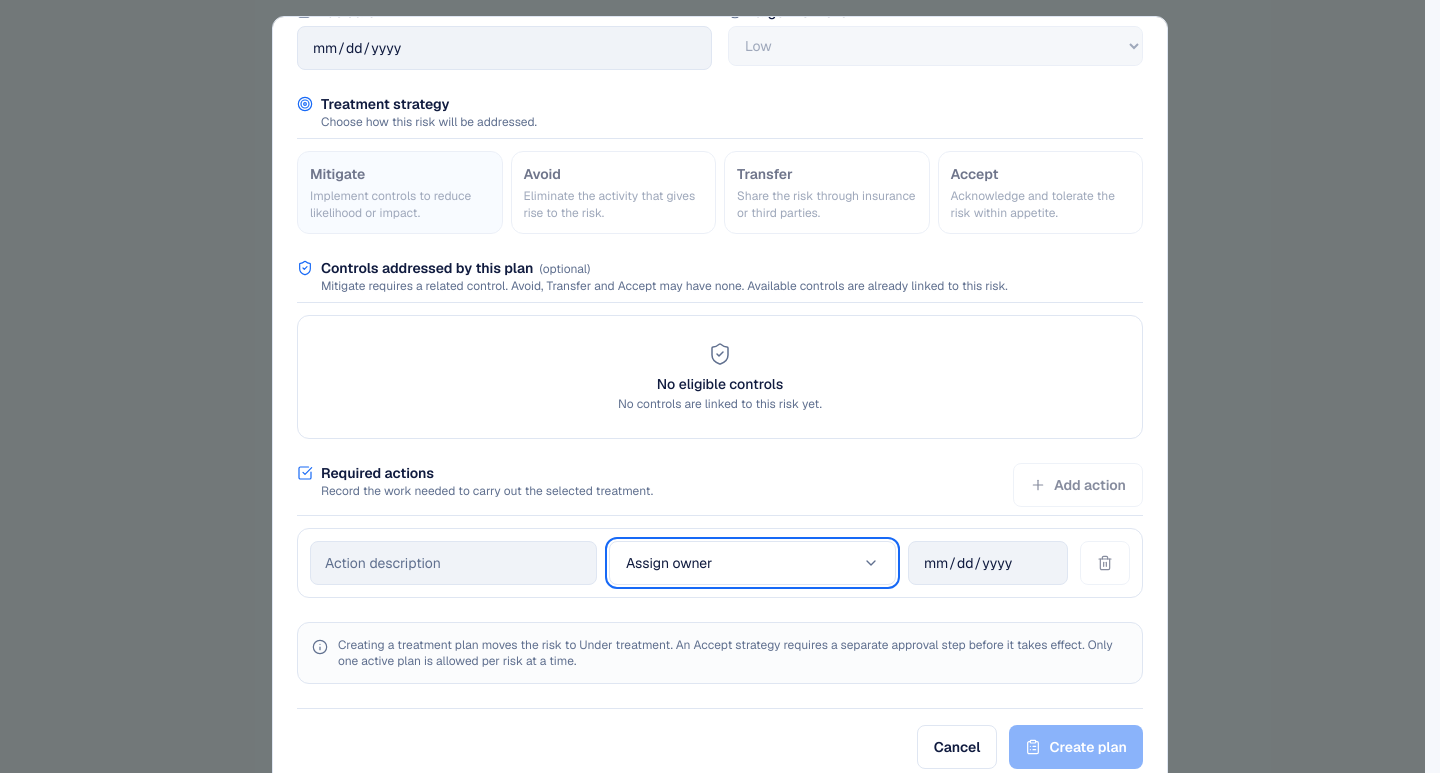
Test case: create Risk Treatment Plan › shows cost justification instead of fake actions for Accept and preserves other strategies
(page scrolled)
Expected: the button "Add action" is shown, [1013,463,1143,507]
Click the radio button labelled "Accept Acknowledge and tolerate the risk within appetite.": (1040, 192) [938,151,1143,234]
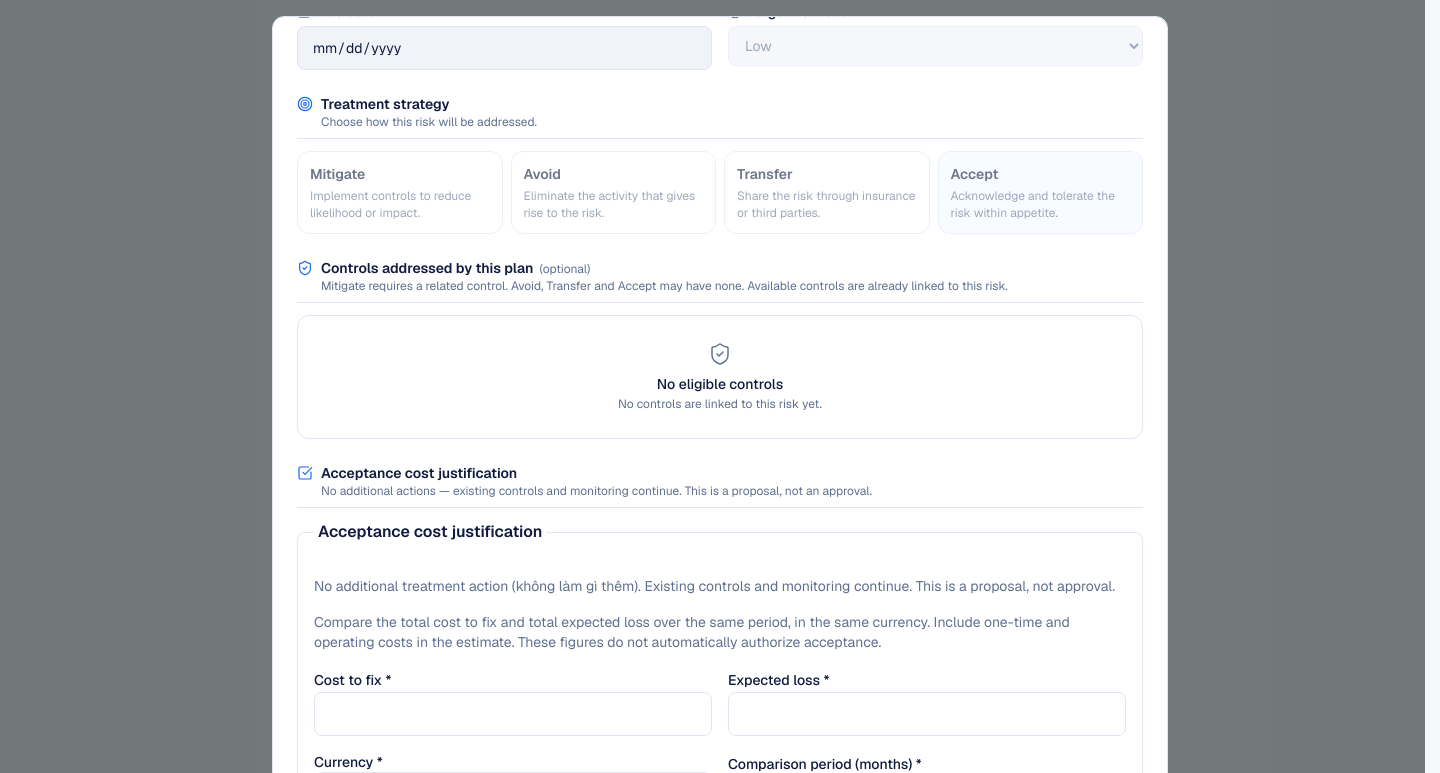
Expected: the field labelled "Expected loss *" is empty, [728,692,1126,736]
Expected: the button "Add action" is gone
In the field labelled "Cost to fix *": (513, 714) [314,692,712,736], type "100000000"
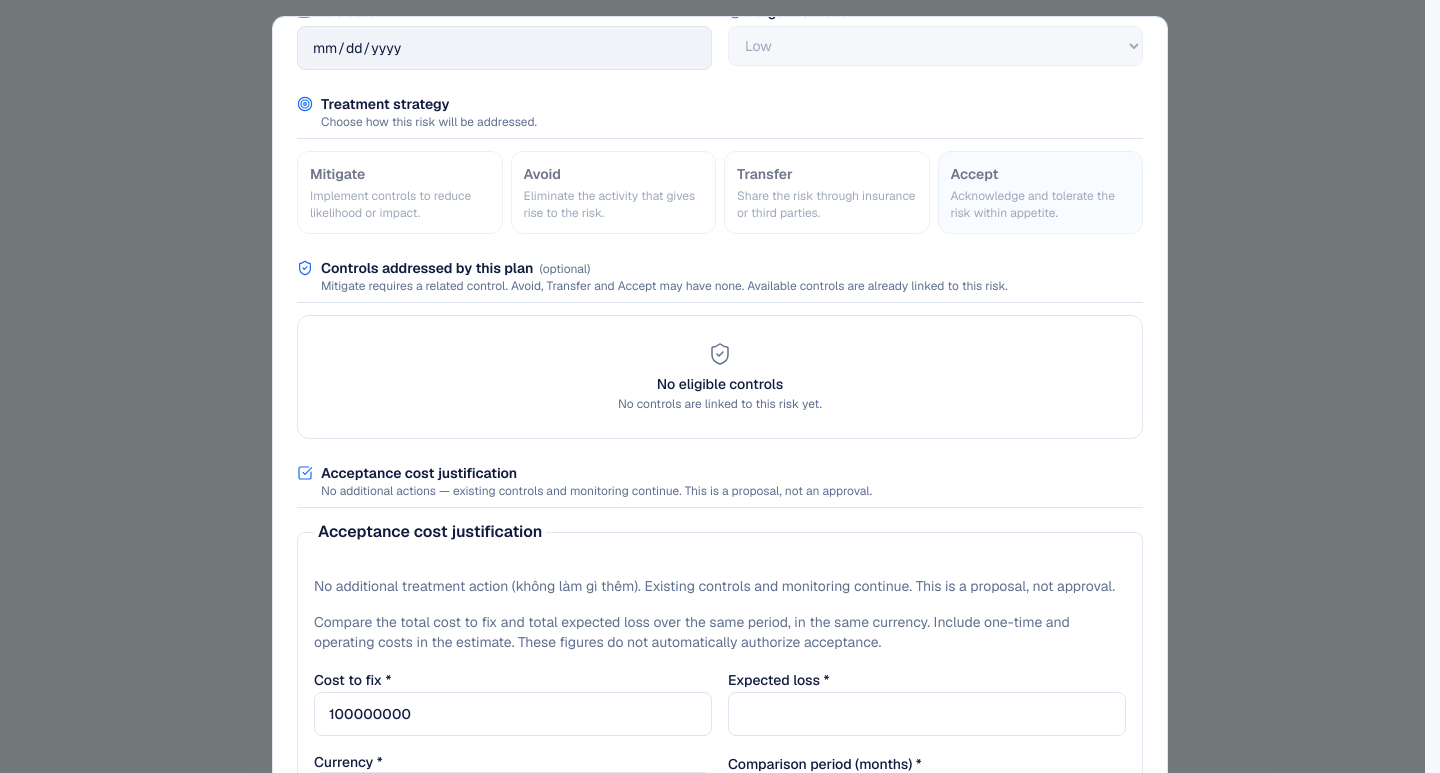
Click the radio button labelled "Transfer Share the risk through insurance or third parties.": (827, 192) [724,151,930,234]
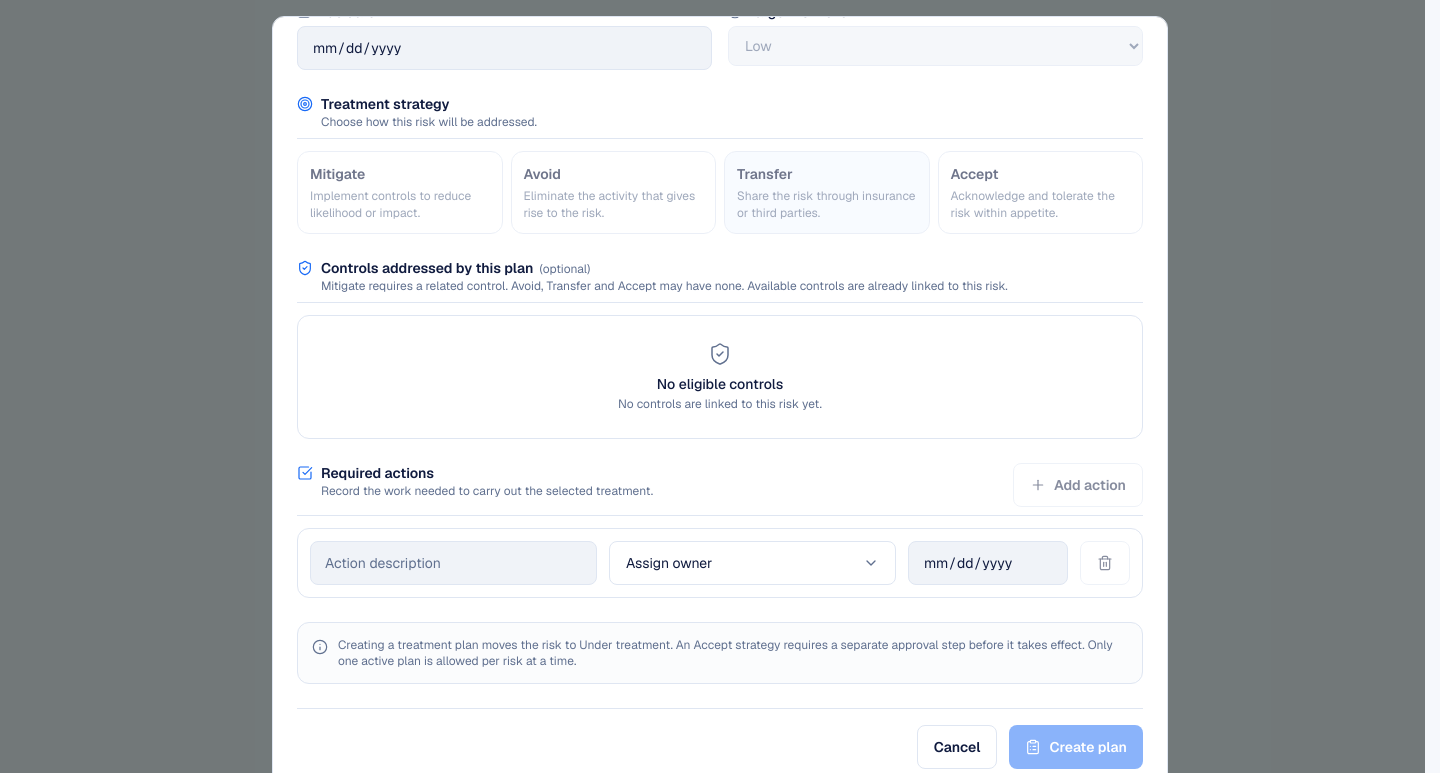
Expected: the button "Add action" is shown, [1013,463,1143,507]
Expected: the text labelled "Cost to fix *" is gone
Click the radio button labelled "Accept Acknowledge and tolerate the risk within appetite.": (1040, 192) [938,151,1143,234]
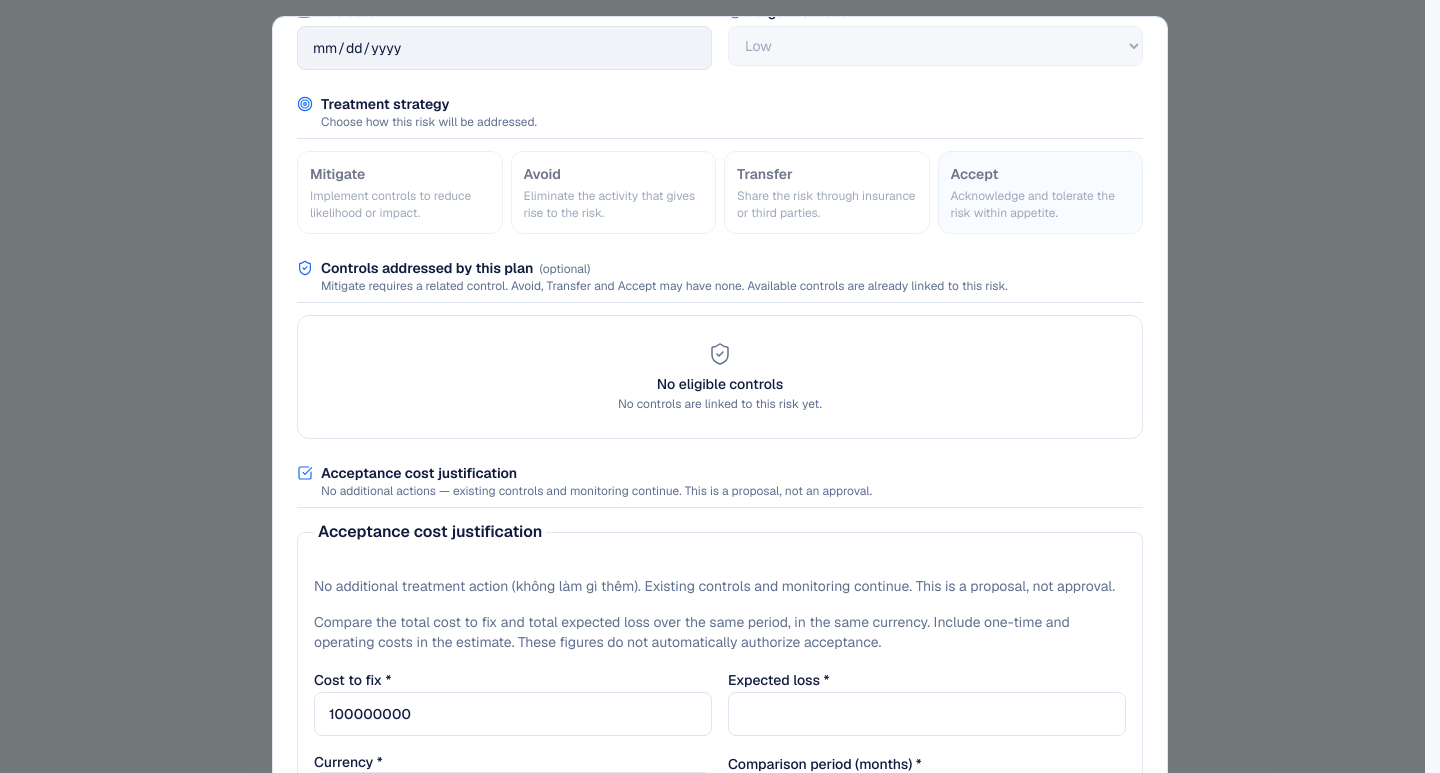
Expected: the field labelled "Cost to fix *" holds "100000000", [314,692,712,736]
